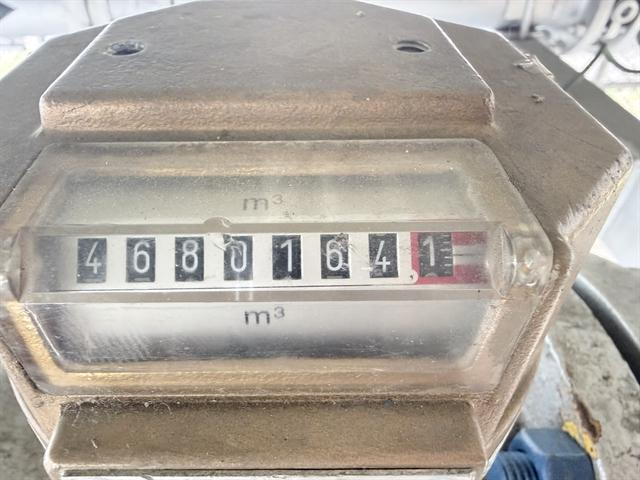analog_dial: (33, 232, 490, 294)
